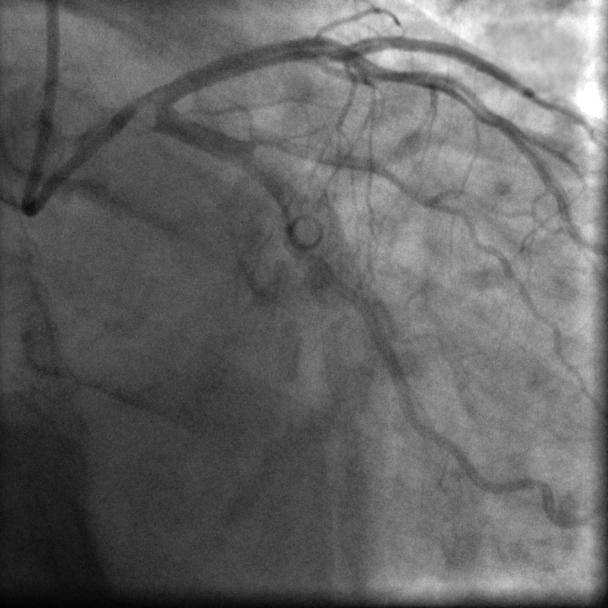Stenosis: (245, 121, 282, 155)
